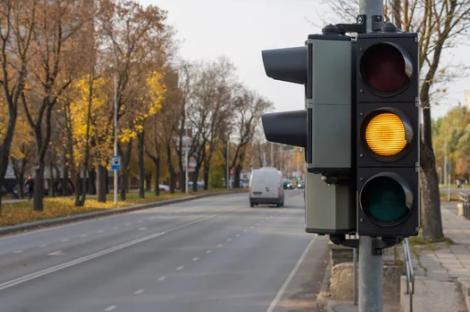yellow_light: (356, 34, 420, 235)
